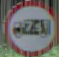Heavy Vehicles: (5, 2, 52, 44)
